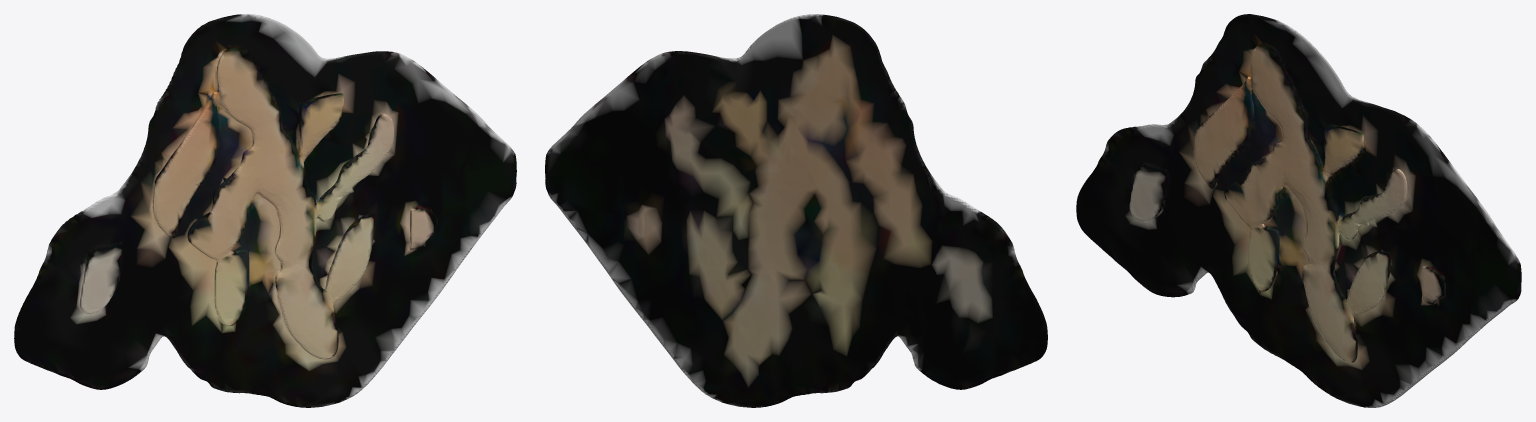
File: uf6pile.glb
3 renders of one model, left to right at view 1: azimuth 30°, elevation 25°; view 2: azimuth 150°, elevation 25°; view 3: azimuth 330°, elevation 25°, orthographic. The views are drawn at different scales.
Parts seen in each view (by area): view 1: geometry_0; view 2: geometry_0; view 3: geometry_0.
Boxes of the visible parts, left/top/right/bottom form: geometry_0: left=14, top=14, right=516, bottom=407; geometry_0: left=545, top=14, right=1047, bottom=407; geometry_0: left=1076, top=14, right=1521, bottom=407.
Bounding box in the file's own units: 0.4768 × 0.375 × 0.0105.
